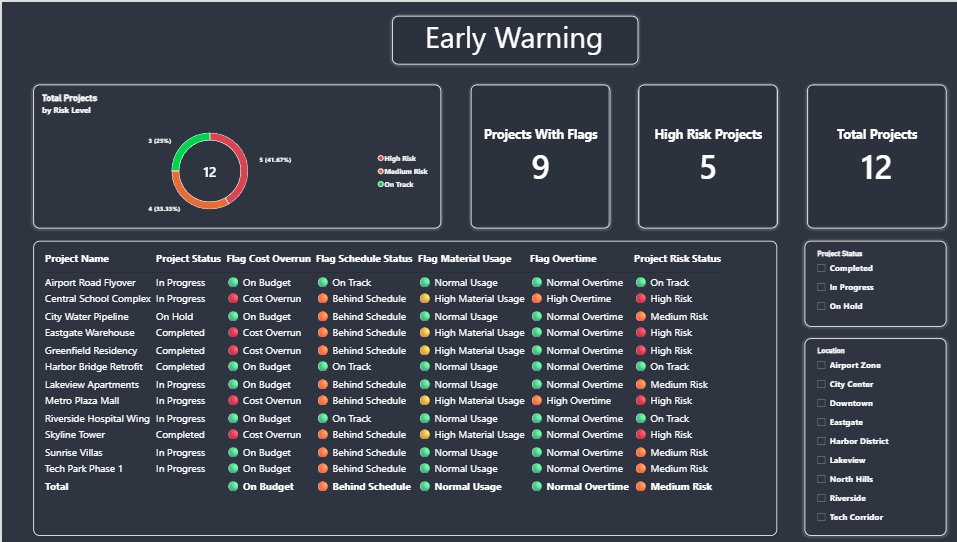

This screenshot's page, from the dashboard's own definition file:
{"tool":"powerbi","page":{"name":"Early Warning","canvas":[1920,1080],"ordinal":5},"visuals":[{"type":"cardVisual","fields":{"Data":["_Measures.High Risk Projects"]},"box":[1272.1,165.1,279.1,288.4],"z":0},{"type":"cardVisual","fields":{"Data":["_Measures.Projects With Flags"]},"box":[937.2,165.1,279.1,288.4],"z":1000},{"type":"cardVisual","fields":{"Data":["_Measures.Total Projects"]},"box":[1609.3,165.1,279.1,288.4],"z":2000},{"type":"tableEx","fields":{"Values":["Projects.Project Name","Projects.Project Status","_Measures.Flag Cost Overrun","_Measures.Flag Schedule Status","_Measures.Flag Material Usage","_Measures.Flag Overtime","_Measures.Project Risk Status"]},"box":[62.8,476.7,1488.4,590.7],"z":3000},{"type":"slicer","fields":{"Values":["Projects.Project Status"]},"box":[1604.7,476.7,283.7,172.1],"z":4000},{"type":"slicer","fields":{"Values":["Projects.Location"]},"box":[1604.7,672.1,283.7,395.3],"z":5000},{"type":"donutChart","fields":{"Y":["_Measures.Total Projects"],"Category":["Projects.Risk Level"]},"box":[62.8,165.1,816.3,288.4],"z":6000},{"type":"textbox","box":[779.1,27.9,493,97.7],"z":7000}]}

Visuals, with their boxes in screenshot pixels (x1, y1, x2, y2), scaled from the page's 1920x1080 canvas onto the 957x542 screenshot:
cardVisual - _Measures.High Risk Projects: 634, 83, 773, 228
cardVisual - _Measures.Projects With Flags: 467, 83, 606, 228
cardVisual - _Measures.Total Projects: 802, 83, 941, 228
tableEx - Projects.Project Name x Projects.Project Status: 31, 239, 773, 536
slicer - Projects.Project Status: 800, 239, 941, 326
slicer - Projects.Location: 800, 337, 941, 536
donutChart - _Measures.Total Projects x Projects.Risk Level: 31, 83, 438, 228
textbox: 388, 14, 634, 63
